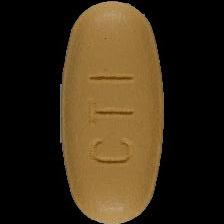54868-5607: (0, 0, 224, 224)
